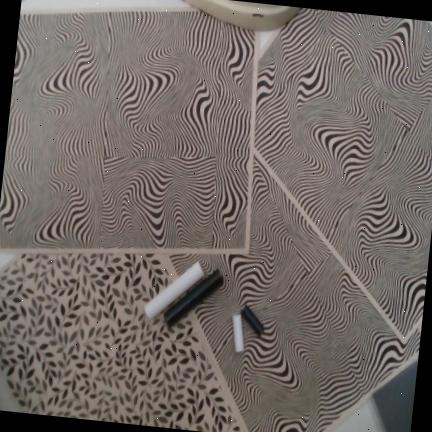Cilindro: (144, 262, 204, 319), (164, 271, 223, 327), (241, 307, 264, 336), (232, 314, 244, 352)
